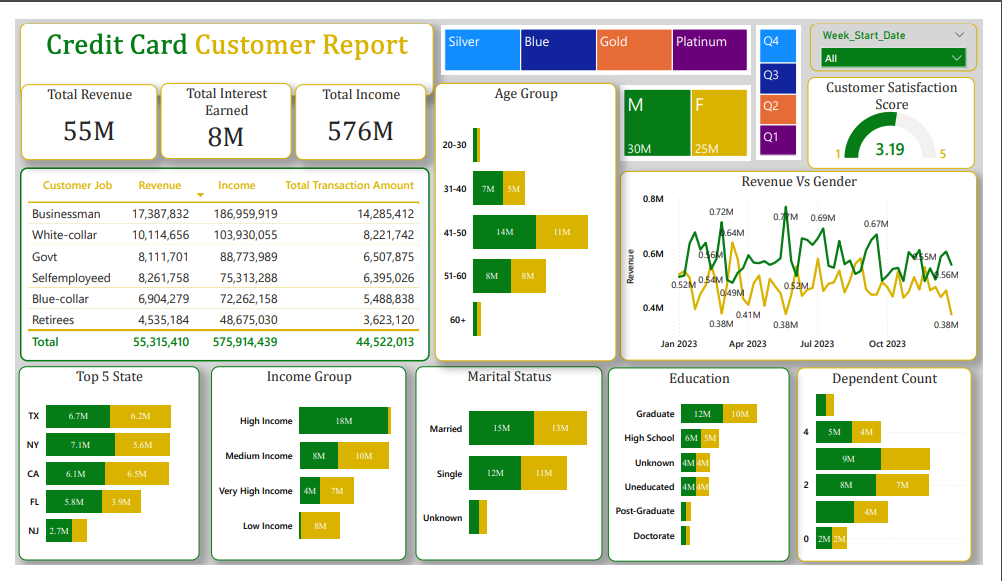

The page's visual inventory and layout, read from the dashboard file:
{"tool":"powerbi","page":{"name":"Customer Report","canvas":[1280,720],"ordinal":1},"visuals":[{"type":"barChart","title":"Top 5 State","fields":{"Category":["customer.state_cd"],"Y":["Sum(credit_card.Revenue)"],"Series":["customer.Gender"]},"box":[4.8,458.1,238.6,256.1],"z":0},{"type":"textbox","box":[6.4,4.8,547.2,97],"z":1000},{"type":"barChart","title":"Income Group","fields":{"Category":["customer.Income Group"],"Y":["Sum(credit_card.Revenue)"],"Series":["customer.Gender"]},"box":[259.3,458.1,257.7,256.1],"z":2000},{"type":"barChart","title":"Marital Status","fields":{"Category":["customer.Marital_Status"],"Y":["Sum(credit_card.Revenue)"],"Series":["customer.Gender"]},"box":[529.7,458.1,246.5,256.1],"z":3000},{"type":"tableEx","fields":{"Values":["customer.Customer_Job","Sum(credit_card.Revenue)","Sum(customer.Income)","Sum(credit_card.Total_Trans_Amt)"]},"box":[6.4,195.6,542.4,256.1],"z":4000},{"type":"lineChart","title":"Revenue Vs  Gender","fields":{"Category":["credit_card.Week_Start_Date.Variation.Date Hierarchy.Year","credit_card.Week_Start_Date.Variation.Date Hierarchy.Month","credit_card.Week_Start_Date.Variation.Date Hierarchy.Day"],"Y":["Sum(credit_card.Revenue)"],"Series":["customer.Gender"]},"box":[800.1,200.4,472.4,249.7],"z":5000},{"type":"treemap","fields":{"Group":["credit_card.Card_Category"],"Values":["Avg(credit_card.Client_Num)"]},"box":[563.1,8,410.4,65.2],"z":6000},{"type":"slicer","fields":{"Values":["credit_card.Week_Start_Date"]},"box":[1051.4,4.8,221.1,63.6],"z":7000},{"type":"card","title":"Total Revenue","fields":{"Values":["Sum(credit_card.Revenue)"]},"box":[8,85.9,179.7,100.2],"z":8000},{"type":"card","title":"Total Interest Earned","fields":{"Values":["Sum(credit_card.Interest_Earned)"]},"box":[192.5,84.3,173,100.2],"z":9000},{"type":"card","title":"Total Income","fields":{"Values":["Sum(customer.Income)"]},"box":[370.6,85.9,173,100.2],"z":10000},{"type":"treemap","fields":{"Group":["credit_card.Qtr"],"Values":["Avg(credit_card.Client_Num)"]},"box":[979.8,8,58.9,176.6],"z":11000},{"type":"treemap","fields":{"Group":["customer.Gender"],"Values":["Sum(credit_card.Revenue)"]},"box":[800.1,87.5,173.4,98.6],"z":12000},{"type":"barChart","title":"Age Group","fields":{"Y":["Sum(credit_card.Revenue)"],"Series":["customer.Gender"],"Category":["customer.Age Group"]},"box":[555.1,84.3,240.2,367.4],"z":13000},{"type":"barChart","title":"Dependent Count","fields":{"Y":["Sum(credit_card.Revenue)"],"Series":["customer.Gender"],"Category":["customer.Dependent_Count"]},"box":[1033.9,459.7,230.6,256.1],"z":14000},{"type":"barChart","title":"Education","fields":{"Y":["Sum(credit_card.Revenue)"],"Series":["customer.Gender"],"Category":["customer.Education_Level"]},"box":[784.2,459.7,240.2,256.1],"z":15000},{"type":"gauge","title":"Customer Satisfaction Score","fields":{"Y":["Avg(customer.Cust_Satisfaction_Score)"],"MinValue":["Min(customer.Cust_Satisfaction_Score)"],"MaxValue":["Max(customer.Cust_Satisfaction_Score)"]},"box":[1048.2,76.3,221.1,120.9],"z":16000}]}

Visuals, with their boxes in screenshot pixels (x1, y1, x2, y2), scaled from the page's 1280x720 canvas onto the 1002x581 screenshot:
"Top 5 State" barChart: bbox(4, 370, 191, 576)
textbox: bbox(5, 4, 433, 82)
"Income Group" barChart: bbox(203, 370, 405, 576)
"Marital Status" barChart: bbox(415, 370, 608, 576)
tableEx - customer.Customer_Job x Sum(credit_card.Revenue): bbox(5, 158, 430, 364)
"Revenue Vs  Gender" lineChart: bbox(626, 162, 996, 363)
treemap - credit_card.Card_Category x Avg(credit_card.Client_Num): bbox(441, 6, 762, 59)
slicer - credit_card.Week_Start_Date: bbox(823, 4, 996, 55)
"Total Revenue" card: bbox(6, 69, 147, 150)
"Total Interest Earned" card: bbox(151, 68, 286, 149)
"Total Income" card: bbox(290, 69, 426, 150)
treemap - credit_card.Qtr x Avg(credit_card.Client_Num): bbox(767, 6, 813, 149)
treemap - customer.Gender x Sum(credit_card.Revenue): bbox(626, 71, 762, 150)
"Age Group" barChart: bbox(435, 68, 623, 364)
"Dependent Count" barChart: bbox(809, 371, 990, 578)
"Education" barChart: bbox(614, 371, 802, 578)
"Customer Satisfaction Score" gauge: bbox(821, 62, 994, 159)
